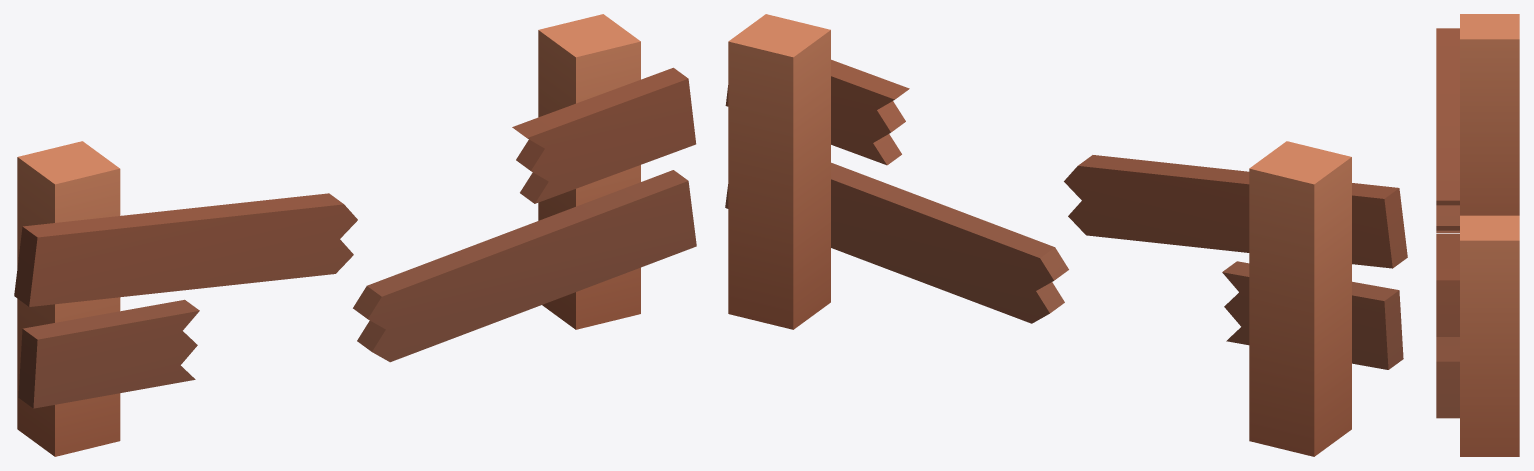
The model's file is fence_broken.glb.
3 views of the same model, side by side, from view 1: azimuth 30°, elevation 25°; view 2: azimuth 150°, elevation 25°; view 3: azimuth 270°, elevation 25° (orthographic). The views are drawn at different scales.
Parts seen in each view (by area): view 1: fence-broken; view 2: fence-broken; view 3: fence-broken.
Boxes of the visible parts, box(x1,y1,x2,y2) form: fence-broken: box(14, 14, 696, 456); fence-broken: box(725, 14, 1407, 456); fence-broken: box(1436, 14, 1519, 456).
Size of the model in its own units: 1.03 by 0.4 by 0.14.
1 material, 1 textured.
